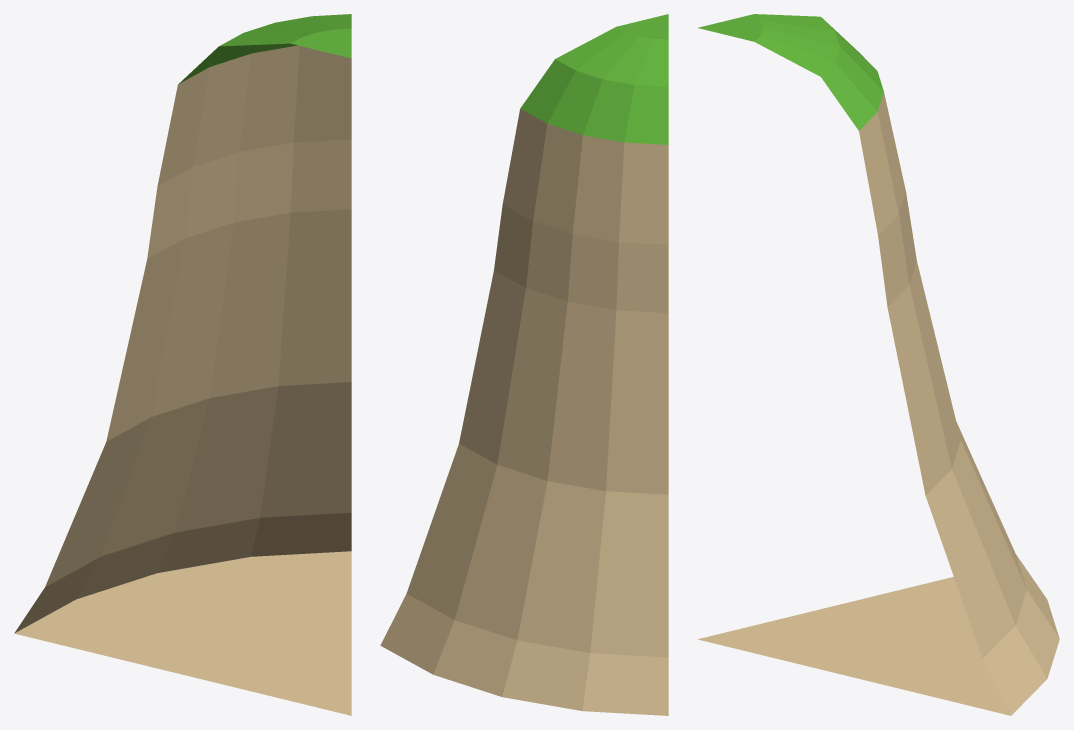
The model's file is margem-convexa.glb.
The picture shows the model from 3 angles, left to right: view 1: azimuth 30°, elevation 25°; view 2: azimuth 150°, elevation 25°; view 3: azimuth 270°, elevation 25°; orthographic projection. The views are drawn at different scales.
Visible parts, largest first — view 1: MargemConvexa; view 2: MargemConvexa; view 3: MargemConvexa.
Part boxes in pixels (<box>): MargemConvexa: <box>14,14,351,715</box>; MargemConvexa: <box>380,14,668,715</box>; MargemConvexa: <box>698,14,1059,715</box>.
Bounding box in the file's own units: 0.33 × 0.614 × 0.33.
